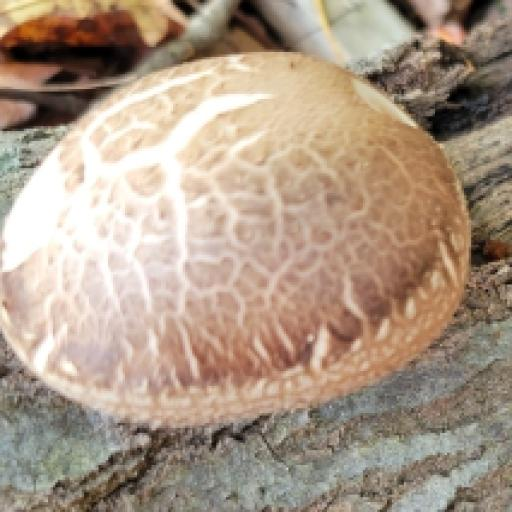Shiitake Mushroom: (0, 19, 498, 459)
